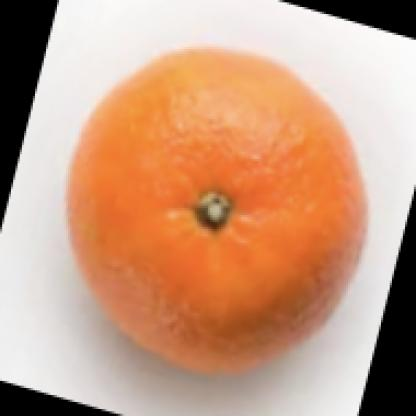fresh: (71, 51, 366, 373)
